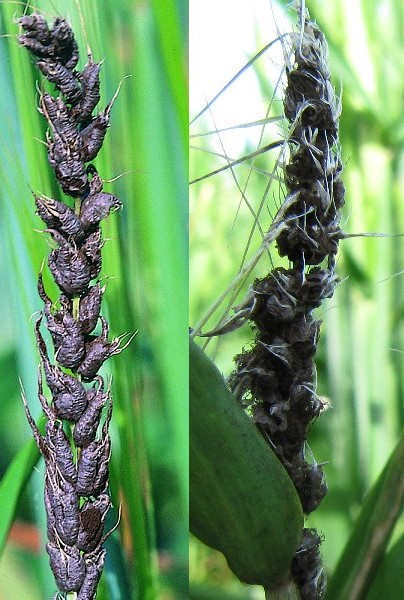Wheat Loose Smut: (211, 14, 381, 477), (7, 11, 138, 587)
